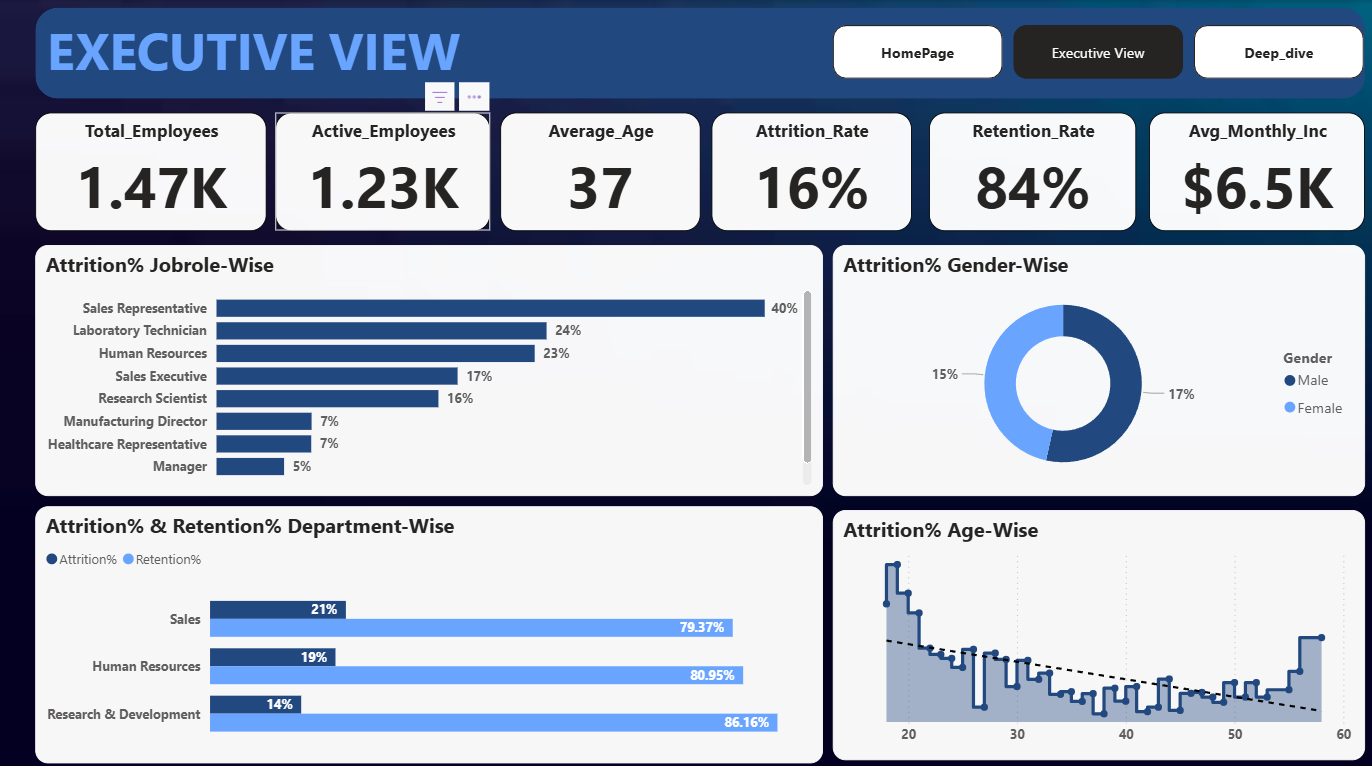

This screenshot's page, from the dashboard's own definition file:
{"tool":"powerbi","page":{"name":"Executive View","canvas":[1280,720],"ordinal":1},"visuals":[{"type":"shape","box":[33.7,7,1237.2,84.9],"z":0},{"type":"card","title":"Total_Employees","fields":{"Values":["Table.Total_Emp"]},"box":[33.7,104.7,215.1,110.5],"z":1000},{"type":"card","title":"Active_Employees","fields":{"Values":["Table.Active_Emp"]},"box":[257,104.7,200,110.5],"z":2000},{"type":"card","title":"Average_Age","fields":{"Values":["Table.Avg_Age"]},"box":[466.3,104.7,186,110.5],"z":3000},{"type":"card","title":"Attrition_Rate","fields":{"Values":["Table.Attrition%"]},"box":[662.8,104.7,186,110.5],"z":4000},{"type":"card","title":"Avg_Monthly_Inc","fields":{"Values":["Table.Avg_Monthly_Income"]},"box":[1069.8,104.7,201.2,110.5],"z":5000},{"type":"clusteredBarChart","title":"Attrition% & Retention% Department-Wise","fields":{"Category":["WA_Fn-UseC_-HR-Employee-Attrition.Department"],"Y":["Table.Attrition%","Table.Retention%"]},"box":[33.7,470.9,732.6,239.5],"z":6000},{"type":"barChart","title":"Attrition%  Jobrole-Wise","fields":{"Category":["WA_Fn-UseC_-HR-Employee-Attrition.JobRole"],"Y":["Table.Attrition%"]},"box":[33.7,227.9,732.6,233.7],"z":7000},{"type":"donutChart","title":"Attrition% Gender-Wise","fields":{"Category":["WA_Fn-UseC_-HR-Employee-Attrition.Gender"],"Y":["Table.Attrition%"]},"box":[775.6,227.9,495.4,233.7],"z":8000},{"type":"areaChart","title":"Attrition% Age-Wise","fields":{"Category":["WA_Fn-UseC_-HR-Employee-Attrition.Age"],"Y":["Table.Attrition%"]},"box":[775.6,474.4,495.4,232.6],"z":9000},{"type":"pageNavigator","box":[775.6,23.3,495.4,50],"z":10000},{"type":"textbox","box":[40,8,418,75],"z":11000},{"type":"card","title":"Retention_Rate","fields":{"Values":["Table.Retention%"]},"box":[865.1,104.7,193,110.5],"z":11001}]}

Visuals, with their boxes in screenshot pixels (x1, y1, x2, y2), scaled from the page's 1280x720 canvas onto the 1372x766 screenshot:
shape: 36 7 1362 98
"Total_Employees" card: 36 111 267 229
"Active_Employees" card: 275 111 490 229
"Average_Age" card: 500 111 699 229
"Attrition_Rate" card: 710 111 910 229
"Avg_Monthly_Inc" card: 1147 111 1362 229
"Attrition% & Retention% Department-Wise" clusteredBarChart: 36 501 821 756
"Attrition%  Jobrole-Wise" barChart: 36 242 821 491
"Attrition% Gender-Wise" donutChart: 831 242 1362 491
"Attrition% Age-Wise" areaChart: 831 505 1362 752
pageNavigator: 831 25 1362 78
textbox: 43 9 491 88
"Retention_Rate" card: 927 111 1134 229
